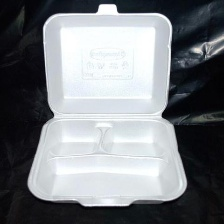foam_box: (20, 0, 196, 212)
